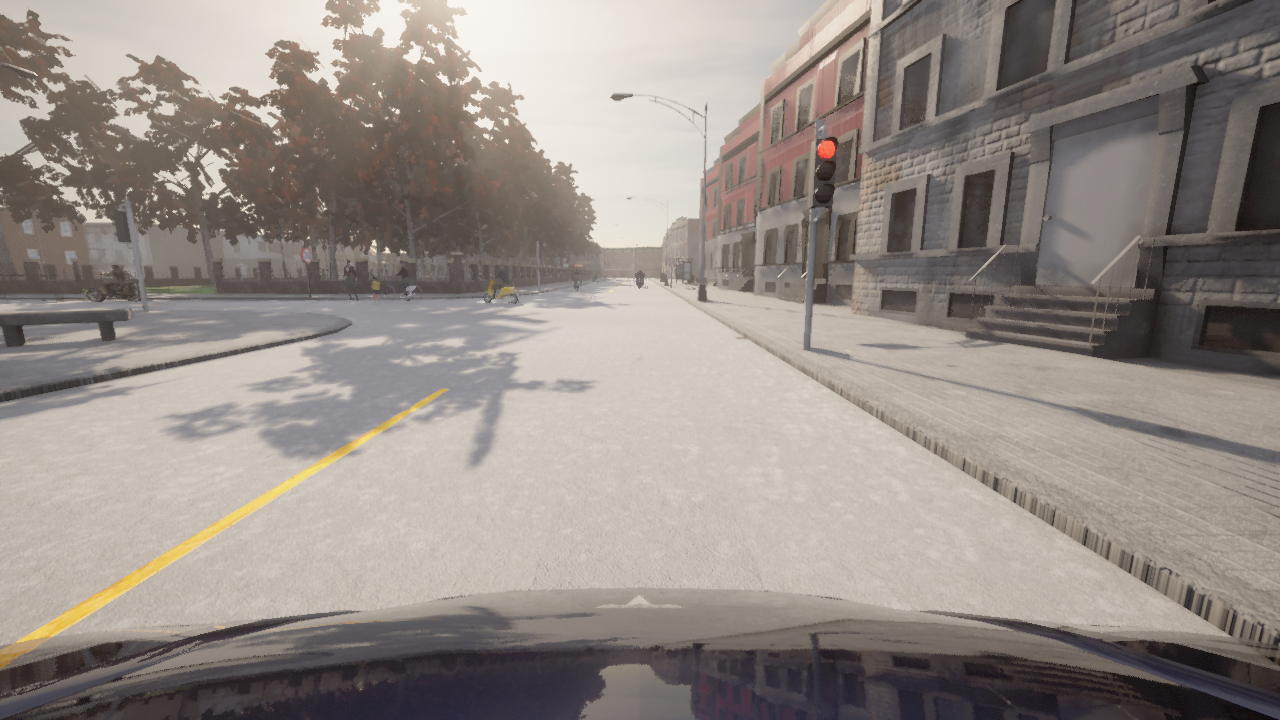cyclist: (0, 588, 1279, 719), (85, 275, 141, 302), (379, 275, 421, 302), (483, 273, 520, 303), (572, 273, 582, 291), (636, 274, 642, 286)
pedestrian: (342, 258, 358, 301), (371, 276, 379, 303)
